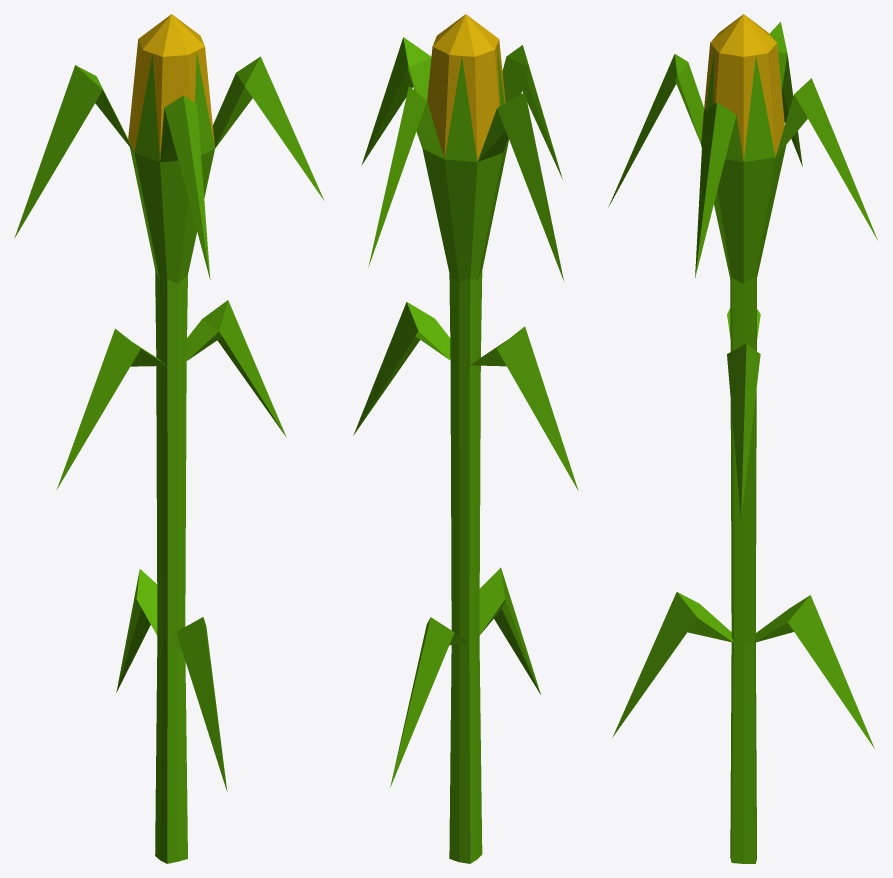
The model's file is cornStalk.glb.
3 renders of one model, left to right at view 1: azimuth 30°, elevation 25°; view 2: azimuth 150°, elevation 25°; view 3: azimuth 270°, elevation 25°, orthographic.
Visible parts, largest first — view 1: cornstalk; view 2: cornstalk; view 3: cornstalk.
Part boxes in pixels (bbox=[...]): cornstalk: bbox=[14, 14, 324, 863]; cornstalk: bbox=[353, 14, 578, 863]; cornstalk: bbox=[608, 14, 877, 863].
Bounding box in the file's own units: 0.3675 × 1.15 × 0.3356.
